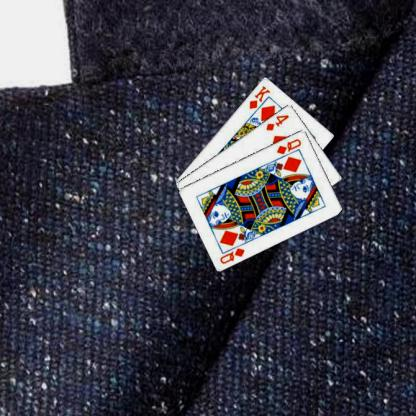4D: (263, 112, 290, 132)
KD: (247, 83, 272, 110)
QD: (217, 244, 246, 264), (274, 136, 302, 155)
